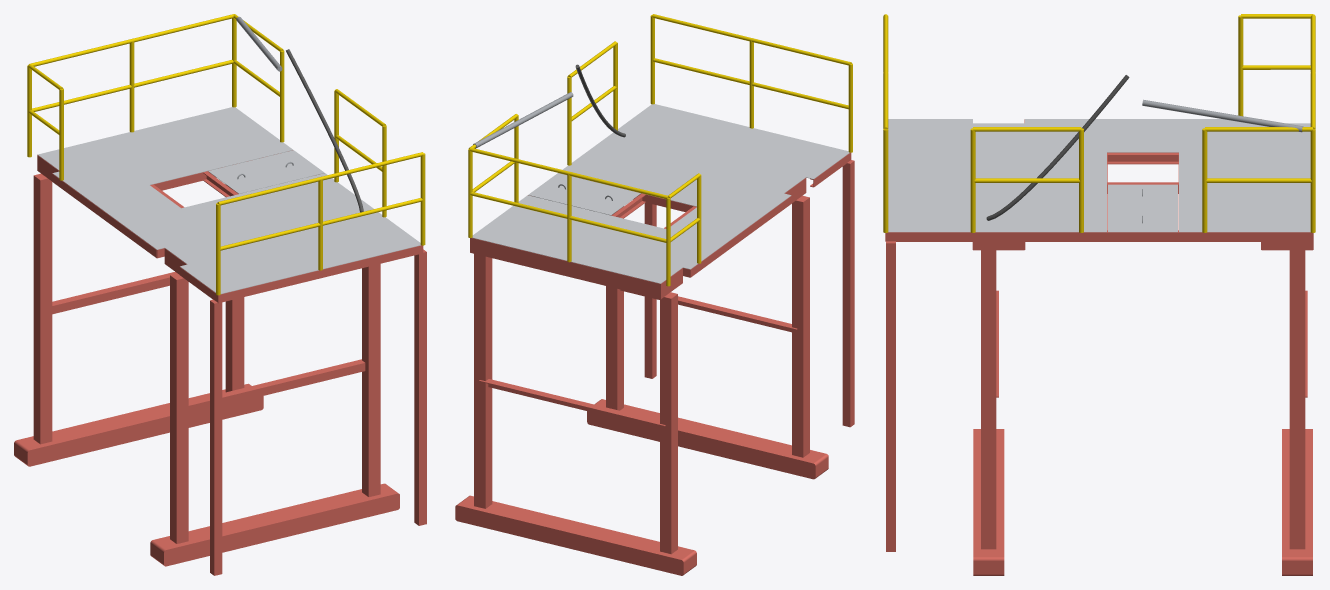
File: sk575_piso.glb
The picture shows the model from 3 angles, left to right: view 1: azimuth 30°, elevation 25°; view 2: azimuth 150°, elevation 25°; view 3: azimuth 270°, elevation 25°; orthographic projection. The views are drawn at different scales.
Parts seen in each view (by area): view 1: sk575_piso_rojo, sk575_piso_acero, sk575_piso_amarillo, sk575_piso_goma; view 2: sk575_piso_rojo, sk575_piso_acero, sk575_piso_amarillo, sk575_piso_acero_oscuro; view 3: sk575_piso_acero, sk575_piso_rojo, sk575_piso_amarillo, sk575_piso_acero_oscuro, sk575_piso_goma.
Part boxes in pixels (bbox=[...]): sk575_piso_rojo: bbox=[14, 155, 426, 575]; sk575_piso_acero: bbox=[37, 107, 420, 294]; sk575_piso_amarillo: bbox=[27, 14, 425, 295]; sk575_piso_goma: bbox=[286, 49, 363, 212]; sk575_piso_rojo: bbox=[455, 152, 854, 575]; sk575_piso_acero: bbox=[472, 104, 849, 283]; sk575_piso_amarillo: bbox=[468, 14, 852, 286]; sk575_piso_acero_oscuro: bbox=[473, 92, 612, 200]; sk575_piso_acero: bbox=[888, 119, 1310, 232]; sk575_piso_rojo: bbox=[885, 119, 1313, 575]; sk575_piso_amarillo: bbox=[883, 14, 1315, 232]; sk575_piso_acero_oscuro: bbox=[1142, 99, 1303, 223]; sk575_piso_goma: bbox=[986, 75, 1129, 220].
Size of the model in its own units: 3 by 5.12 by 4.2.
